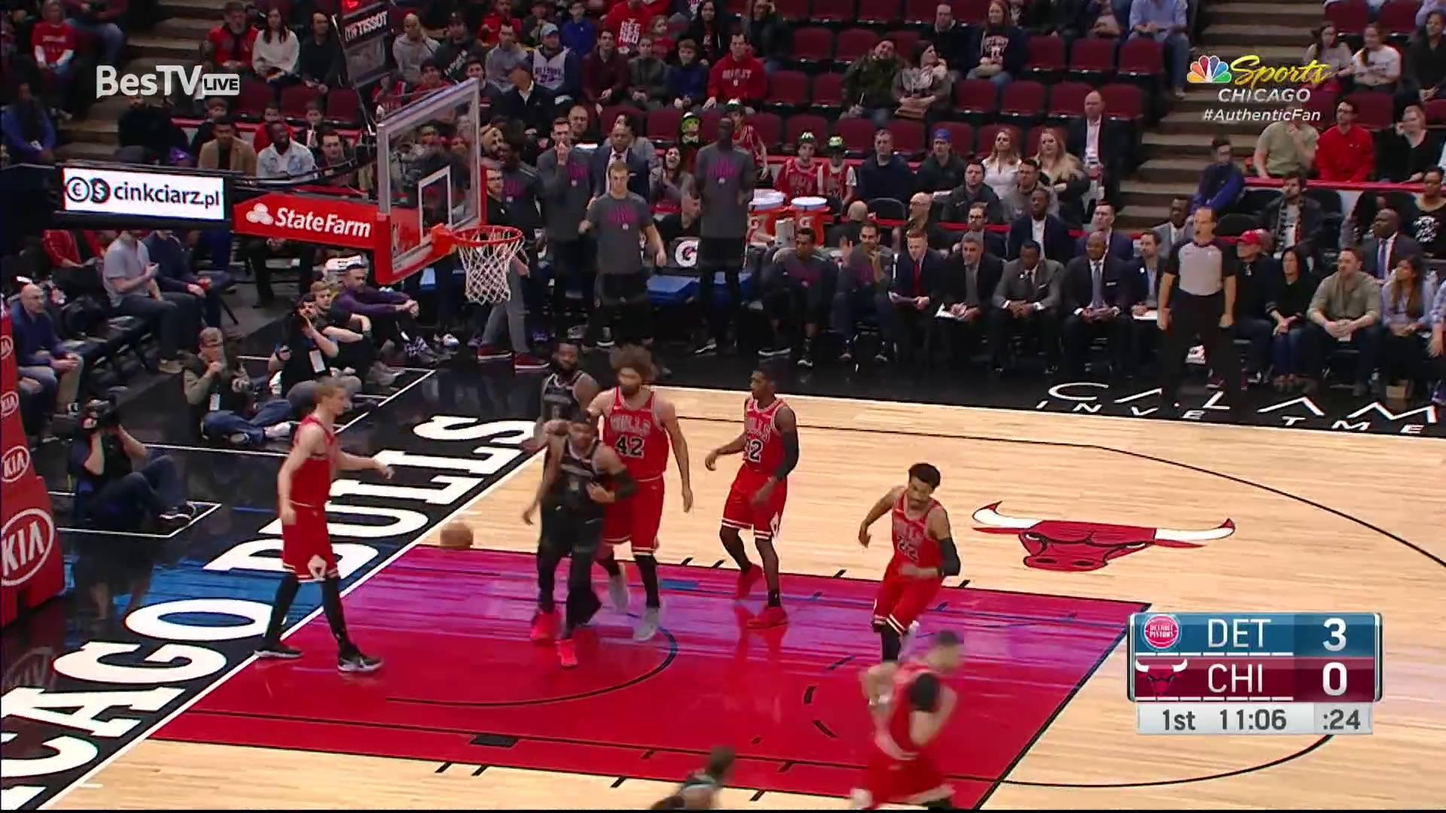basketball: (438, 516, 474, 554)
